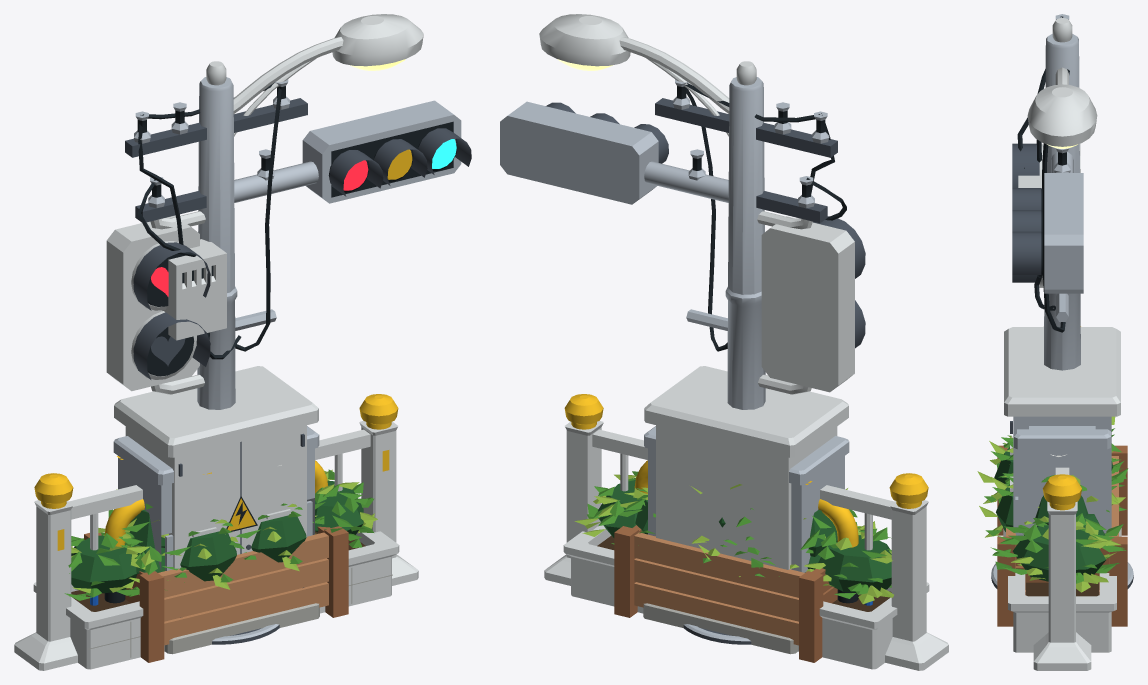
The model's file is street-components-v1.glb.
3 views of the same model, side by side, from view 1: azimuth 30°, elevation 25°; view 2: azimuth 150°, elevation 25°; view 3: azimuth 270°, elevation 25° (orthographic).
Visible parts, largest first — view 1: StreetAsset_12_配电柜_柜门与通风口, StreetAsset_12_配电柜_防雨顶盖, StreetAsset_01_电线杆_杆身与套环, StreetAsset_07_石质绿篱花池_石质池体, StreetAsset_03_心形行人信号灯_双灯外壳, StreetAsset_05_蓝白道路护栏_端柱与底脚, StreetAsset_02_横向交通信号灯_信号灯外壳, StreetAsset_08_木质缤纷花箱_长木板.001, StreetAsset_05_蓝白道路护栏_端柱与底脚.001, StreetAsset_04_弧臂路灯_弧顶灯壳, StreetAsset_01_电线杆_设备箱散热槽, StreetAsset_07_石质绿篱花池_灌木簇 (+31 smaller); view 2: StreetAsset_12_配电柜_柜体, StreetAsset_03_心形行人信号灯_双灯外壳, StreetAsset_02_横向交通信号灯_信号灯外壳, StreetAsset_01_电线杆_杆身与套环, StreetAsset_12_配电柜_防雨顶盖, StreetAsset_07_石质绿篱花池_石质池体, StreetAsset_05_蓝白道路护栏_端柱与底脚, StreetAsset_08_木质缤纷花箱_长木板.005, StreetAsset_07_石质绿篱花池_灌木簇, StreetAsset_08_木质缤纷花箱_长木板.004, StreetAsset_05_蓝白道路护栏_端柱与底脚.001, StreetAsset_04_弧臂路灯_弧顶灯壳 (+19 smaller); view 3: StreetAsset_12_配电柜_防雨顶盖, StreetAsset_05_蓝白道路护栏_端柱与底脚.001, StreetAsset_02_横向交通信号灯_信号灯外壳, StreetAsset_07_石质绿篱花池_石质池体, StreetAsset_09_双分类垃圾桶_柜体背侧, StreetAsset_07_石质绿篱花池_灌木簇.005, StreetAsset_01_电线杆_杆身与套环, StreetAsset_04_弧臂路灯_弧顶灯壳, StreetAsset_09_双分类垃圾桶_上盖, StreetAsset_12_配电柜_侧板与通风口, StreetAsset_02_横向交通信号灯_遮光罩.002, StreetAsset_08_木质缤纷花箱_角立柱.003 (+19 smaller).
Boxes of the visible parts, x1,y1,x2,y2 form: StreetAsset_12_配电柜_柜门与通风口: [174, 425, 306, 568]; StreetAsset_12_配电柜_防雨顶盖: [114, 366, 318, 457]; StreetAsset_01_电线杆_杆身与套环: [197, 77, 237, 409]; StreetAsset_07_石质绿篱花池_石质池体: [33, 531, 399, 669]; StreetAsset_03_心形行人信号灯_双灯外壳: [106, 215, 199, 391]; StreetAsset_05_蓝白道路护栏_端柱与底脚: [14, 500, 77, 670]; StreetAsset_02_横向交通信号灯_信号灯外壳: [302, 100, 461, 203]; StreetAsset_08_木质缤纷花箱_长木板.001: [164, 558, 328, 621]; StreetAsset_05_蓝白道路护栏_端柱与底脚.001: [359, 421, 418, 585]; StreetAsset_04_弧臂路灯_弧顶灯壳: [332, 14, 423, 66]; StreetAsset_01_电线杆_设备箱散热槽: [176, 253, 226, 340]; StreetAsset_07_石质绿篱花池_灌木簇: [64, 528, 145, 600]; StreetAsset_12_配电柜_柜体: [656, 425, 837, 569]; StreetAsset_03_心形行人信号灯_双灯外壳: [761, 216, 854, 392]; StreetAsset_02_横向交通信号灯_信号灯外壳: [500, 101, 658, 204]; StreetAsset_01_电线杆_杆身与套环: [725, 77, 765, 409]; StreetAsset_12_配电柜_防雨顶盖: [644, 366, 848, 457]; StreetAsset_07_石质绿篱花池_石质池体: [563, 525, 929, 669]; StreetAsset_05_蓝白道路护栏_端柱与底脚: [885, 500, 948, 670]; StreetAsset_08_木质缤纷花箱_长木板.005: [634, 532, 804, 597]; StreetAsset_07_石质绿篱花池_灌木簇: [804, 521, 893, 604]; StreetAsset_08_木质缤纷花箱_长木板.004: [634, 558, 798, 621]; StreetAsset_05_蓝白道路护栏_端柱与底脚.001: [544, 421, 603, 585]; StreetAsset_04_弧臂路灯_弧顶灯壳: [539, 14, 630, 66]; StreetAsset_12_配电柜_防雨顶盖: [1004, 327, 1120, 416]; StreetAsset_05_蓝白道路护栏_端柱与底脚.001: [1033, 501, 1091, 670]; StreetAsset_02_横向交通信号灯_信号灯外壳: [1044, 173, 1083, 293]; StreetAsset_07_石质绿篱花池_石质池体: [1008, 573, 1116, 652]; StreetAsset_09_双分类垃圾桶_柜体背侧: [1018, 449, 1106, 535]; StreetAsset_07_石质绿篱花池_灌木簇.005: [990, 513, 1126, 592]; StreetAsset_01_电线杆_杆身与套环: [1044, 34, 1080, 370]; StreetAsset_04_弧臂路灯_弧顶灯壳: [1027, 84, 1097, 146]; StreetAsset_09_双分类垃圾桶_上盖: [1014, 426, 1110, 449]; StreetAsset_12_配电柜_侧板与通风口: [1013, 416, 1111, 530]; StreetAsset_02_横向交通信号灯_遮光罩.002: [1012, 231, 1041, 274]; StreetAsset_08_木质缤纷花箱_角立柱.003: [1109, 536, 1127, 626].
Size of the model in its own units: 3.27 by 4.09 by 1.03.
